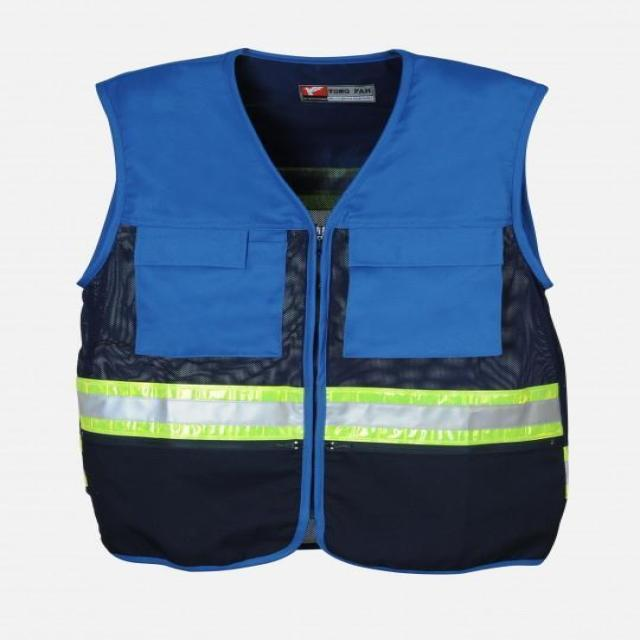Vest: (79, 46, 569, 571)
